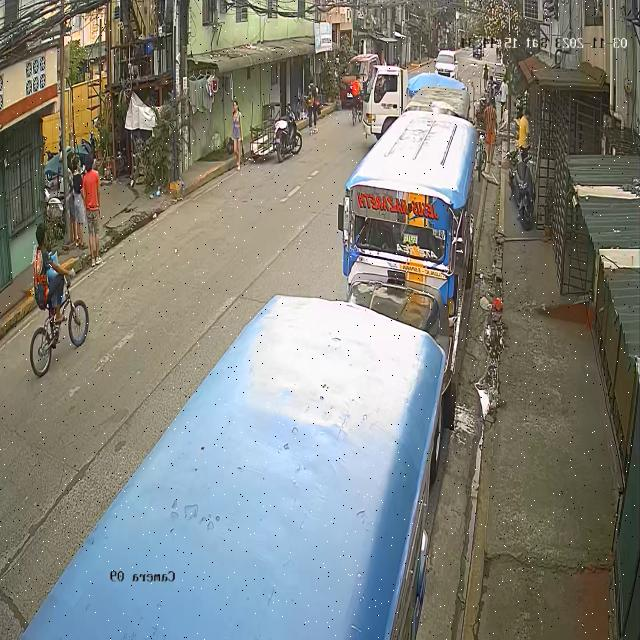garbage_dumping: (228, 132, 236, 158)
